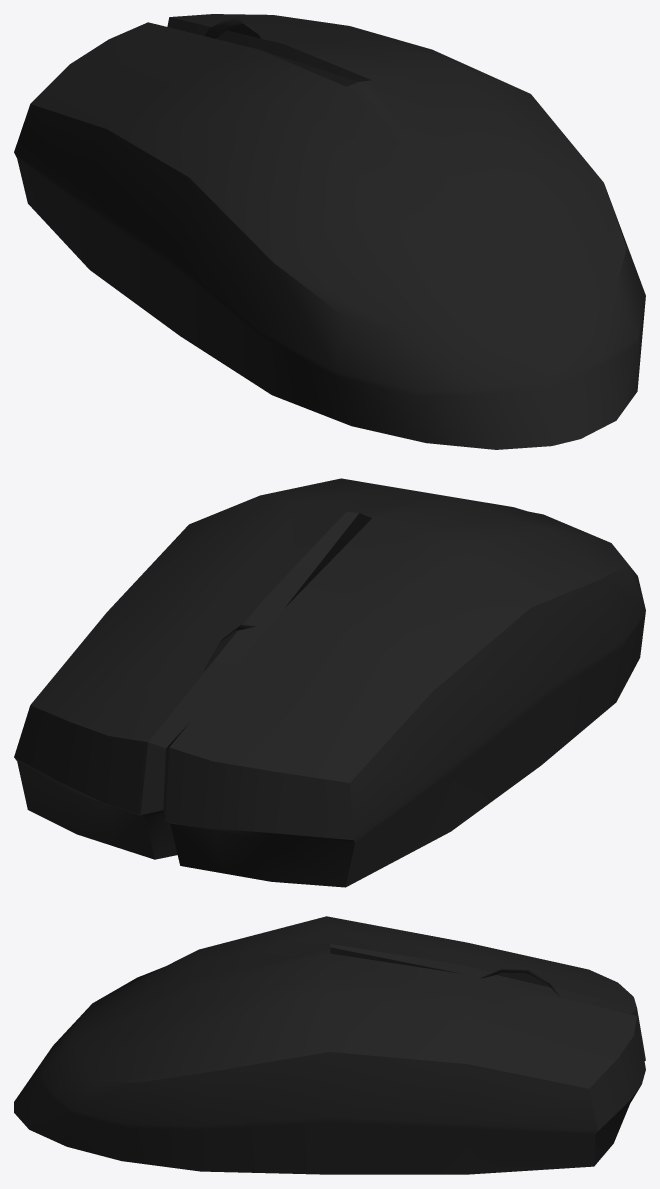
File: PC_Mouse.fbx
The picture shows the model from 3 angles, top to bottom: view 1: azimuth 30°, elevation 25°; view 2: azimuth 150°, elevation 25°; view 3: azimuth 270°, elevation 25°; orthographic projection. The views are drawn at different scales.
Parts seen in each view (by area): view 1: Cube.006, Circle; view 2: Cube.006; view 3: Cube.006, Circle.
Boxes of the visible parts, left/top/right/bottom form: Cube.006: left=14, top=14, right=645, bottom=449; Circle: left=205, top=17, right=260, bottom=38; Cube.006: left=14, top=478, right=645, bottom=887; Cube.006: left=14, top=916, right=645, bottom=1174; Circle: left=481, top=969, right=560, bottom=997.
Size of the model in its own units: 15.95 by 8.47 by 30.32.
1 material, 1 textured.
